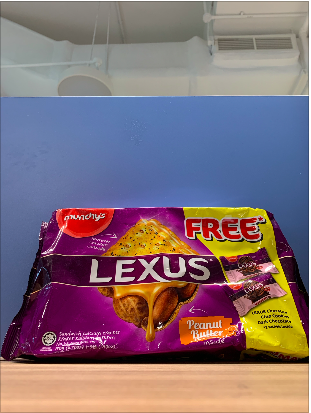Cookies_200-299g: (42, 214, 280, 350)
